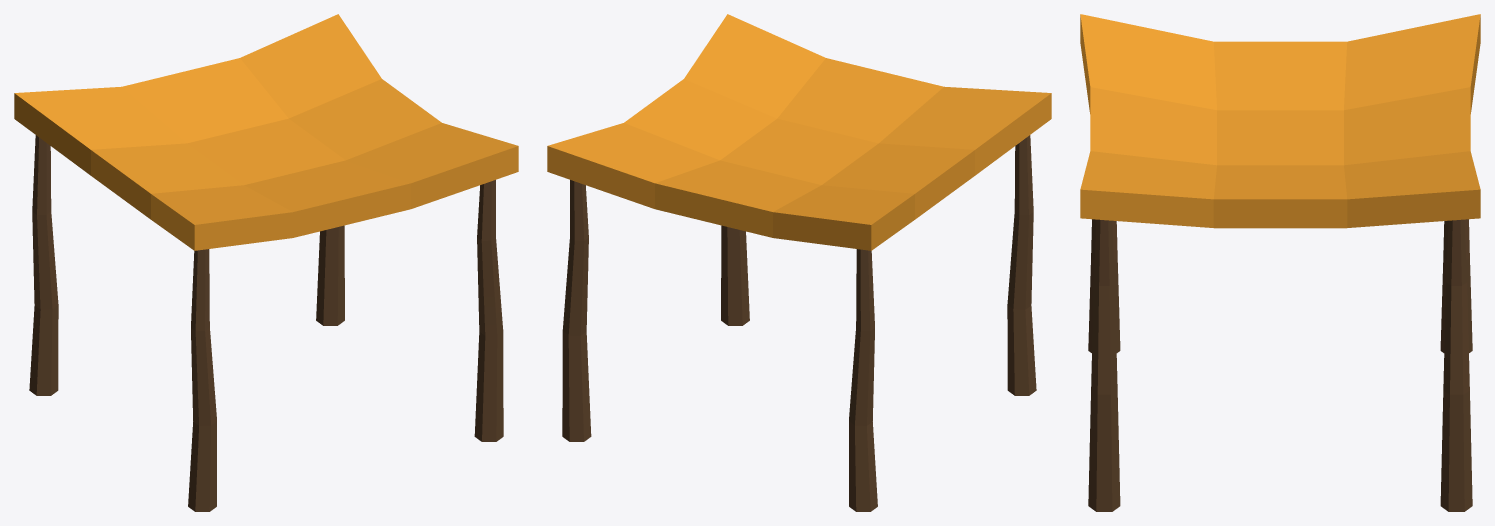
Rendered from egypt_egypt-stand-small.fbx.
3 views of the same model, side by side, from view 1: azimuth 30°, elevation 25°; view 2: azimuth 150°, elevation 25°; view 3: azimuth 270°, elevation 25° (orthographic). The views are drawn at different scales.
Parts seen in each view (by area): view 1: egypt_egypt_stand_small; view 2: egypt_egypt_stand_small; view 3: egypt_egypt_stand_small.
Part boxes in pixels (<box>): egypt_egypt_stand_small: <box>14,14,518,511</box>; egypt_egypt_stand_small: <box>547,14,1051,511</box>; egypt_egypt_stand_small: <box>1080,14,1480,511</box>.
Bounding box in the file's own units: 200 × 173 × 193.
